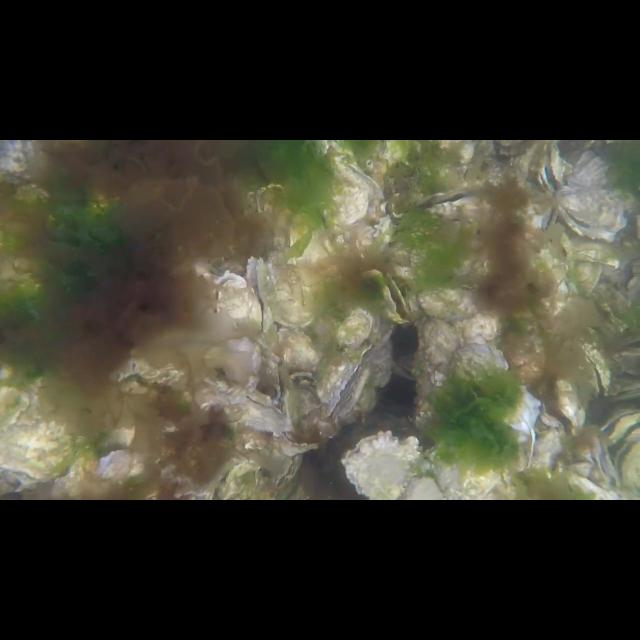Oyster-Closed: (444, 343, 542, 432), (424, 430, 520, 500), (314, 140, 372, 232), (288, 210, 340, 288), (417, 318, 461, 404), (268, 249, 314, 329), (220, 391, 294, 437), (416, 286, 486, 322), (276, 327, 322, 378), (0, 139, 46, 186), (560, 232, 620, 266), (404, 472, 448, 500), (572, 260, 602, 300)
Oyster-Open: (0, 381, 78, 484), (554, 152, 640, 242), (340, 430, 420, 500), (317, 344, 373, 422), (531, 374, 585, 441), (240, 338, 286, 414), (112, 356, 188, 402), (332, 306, 393, 352), (204, 456, 258, 500), (413, 188, 481, 222), (214, 269, 250, 327), (612, 428, 640, 500), (245, 255, 269, 333), (582, 339, 612, 398), (95, 448, 147, 482), (596, 408, 640, 444), (382, 272, 412, 324), (592, 434, 620, 488), (538, 140, 564, 196), (276, 428, 320, 457), (274, 455, 302, 493), (390, 350, 420, 384), (608, 380, 640, 402), (535, 204, 559, 232), (372, 211, 392, 243)
